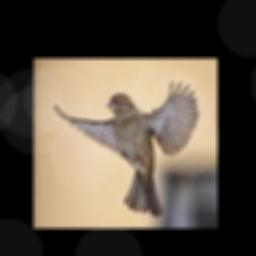Sparrow: (54, 80, 198, 216)
